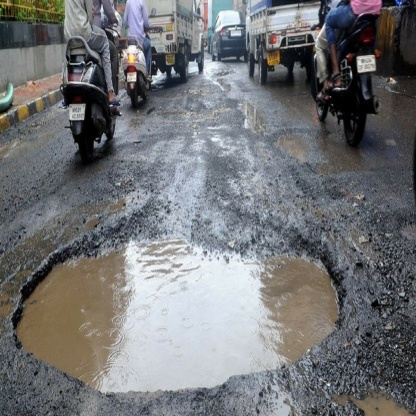pothole: (3, 215, 358, 395)
